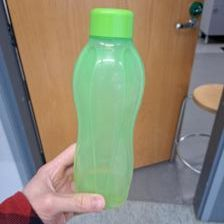bottle: (70, 7, 144, 209)
